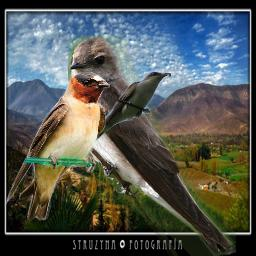Cuckoo: (70, 70, 171, 149)
Swallow: (68, 35, 236, 256), (6, 72, 110, 221)
